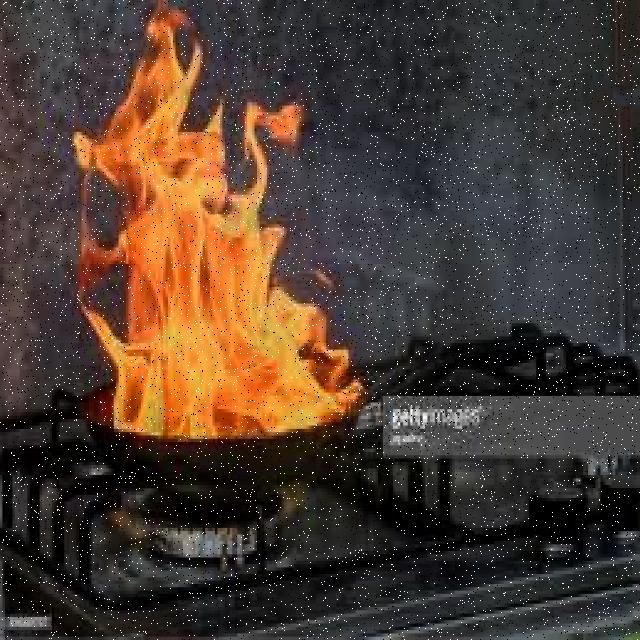fire: (71, 2, 356, 454)
